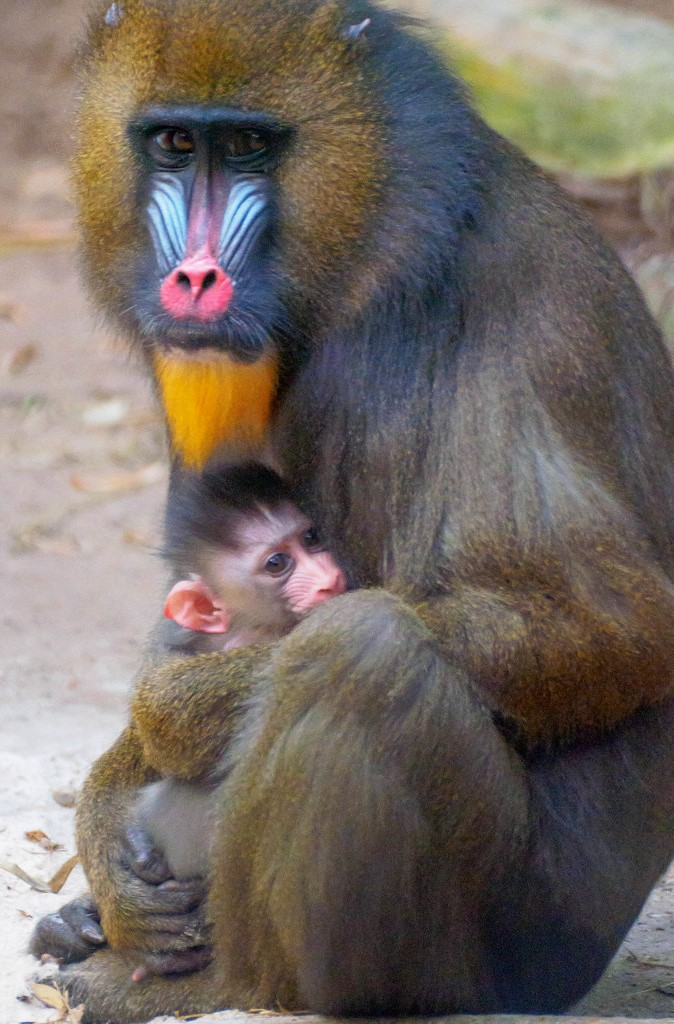Mandrill: (86, 11, 666, 993)
